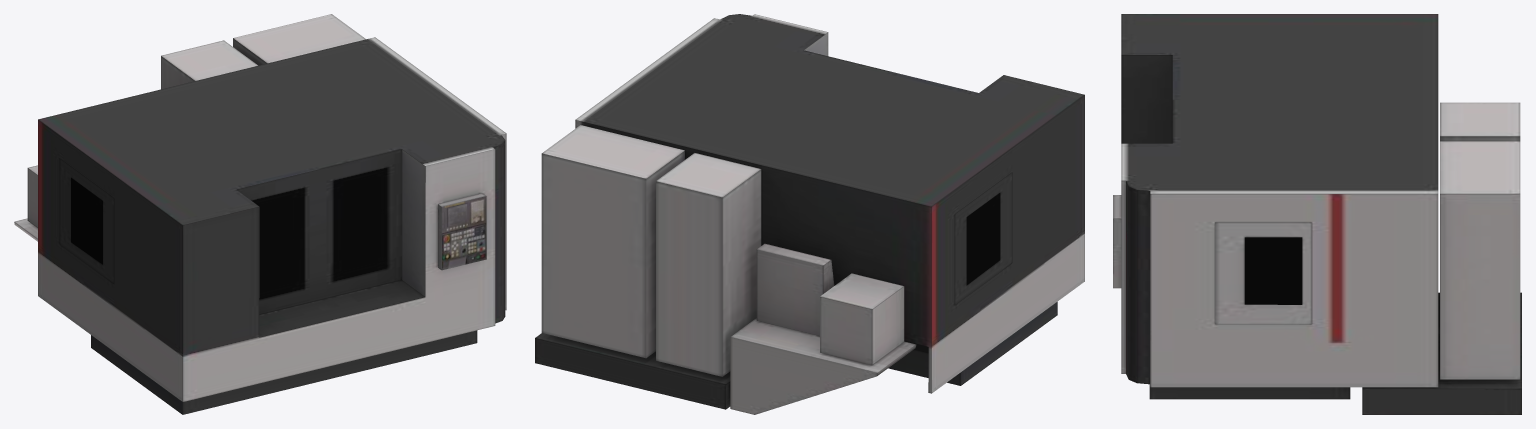
3 renders of one model, left to right at view 1: azimuth 30°, elevation 25°; view 2: azimuth 150°, elevation 25°; view 3: azimuth 270°, elevation 25°, orthographic. The views are drawn at different scales.
Visible parts, largest first — view 1: VMC850B_0; view 2: VMC850B_0; view 3: VMC850B_0.
Part boxes in pixels (x1=…): VMC850B_0: x1=14, y1=14, x2=506, y2=414; VMC850B_0: x1=535, y1=14, x2=1084, y2=414; VMC850B_0: x1=1113, y1=14, x2=1521, y2=414.
Size of the model in its own units: 1.04 by 0.5975 by 1.
Materials: 1 (1 with a texture image).
